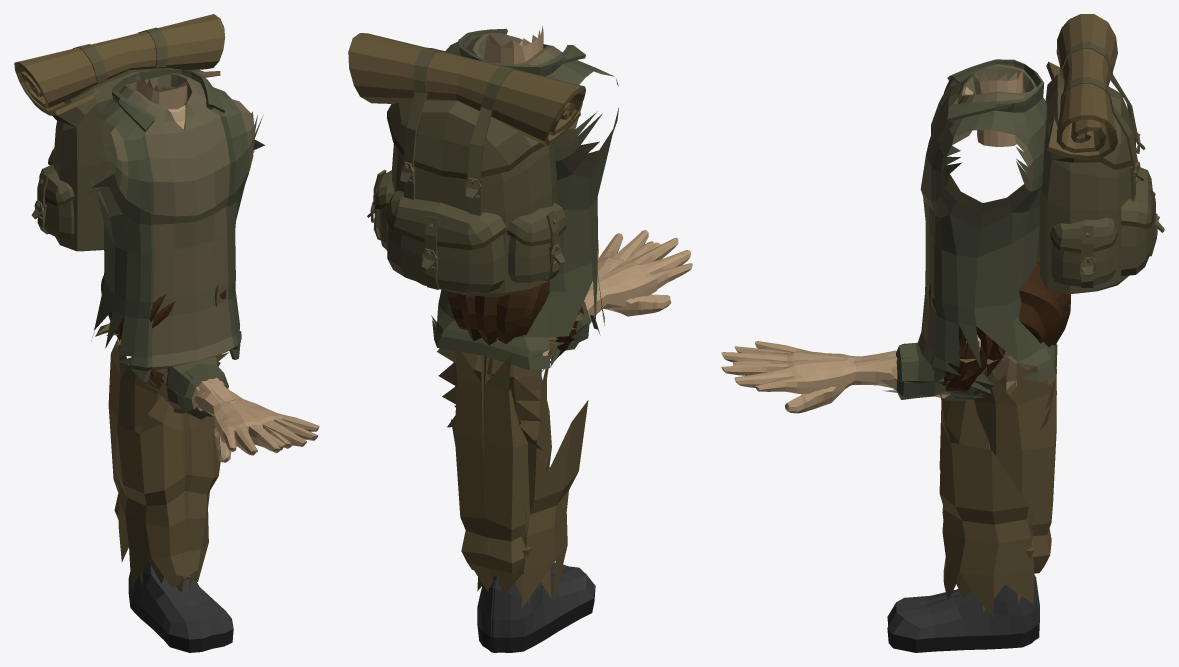
Rendered from loner.glb.
The picture shows the model from 3 angles, left to right: view 1: azimuth 30°, elevation 25°; view 2: azimuth 150°, elevation 25°; view 3: azimuth 270°, elevation 25°; orthographic projection. The views are drawn at different scales.
Parts seen in each view (by area): view 1: torso, thighL, thighR, shinR, shinL, foreR, foreL, upperR, upperL, head; view 2: torso, shinR, shinL, thighL, head, foreR, foreL, thighR; view 3: torso, thighR, shinR, shinL, head, foreL, foreR, thighL, upperR, upperL.
Part boxes in pixels (left/top/right/bottom): torso: left=14, top=14, right=264, bottom=413; thighL: left=115, top=368, right=191, bottom=589; thighR: left=139, top=352, right=229, bottom=591; shinR: left=117, top=340, right=212, bottom=652; shinL: left=108, top=338, right=233, bottom=648; foreR: left=194, top=381, right=292, bottom=455; foreL: left=197, top=377, right=319, bottom=462; upperR: left=135, top=360, right=223, bottom=416; upperL: left=146, top=356, right=228, bottom=419; head: left=101, top=273, right=226, bottom=387; torso: left=348, top=26, right=618, bottom=450; shinR: left=454, top=341, right=595, bottom=652; shinL: left=477, top=339, right=567, bottom=652; thighL: left=477, top=377, right=588, bottom=608; head: left=447, top=281, right=583, bottom=357; foreR: left=542, top=237, right=692, bottom=358; foreL: left=548, top=230, right=671, bottom=358; thighR: left=451, top=362, right=552, bottom=603; torso: left=918, top=14, right=1164, bottom=429; thighR: left=939, top=398, right=1034, bottom=618; shinR: left=887, top=363, right=1056, bottom=639; shinL: left=887, top=344, right=1057, bottom=652; head: left=929, top=251, right=1070, bottom=392; foreL: left=721, top=354, right=897, bottom=394; foreR: left=721, top=341, right=950, bottom=413; thighL: left=939, top=367, right=1044, bottom=613; upperR: left=879, top=342, right=996, bottom=400; upperL: left=888, top=343, right=995, bottom=399.
Size of the model in its own units: 0.4163 by 1.1 by 0.7709.
